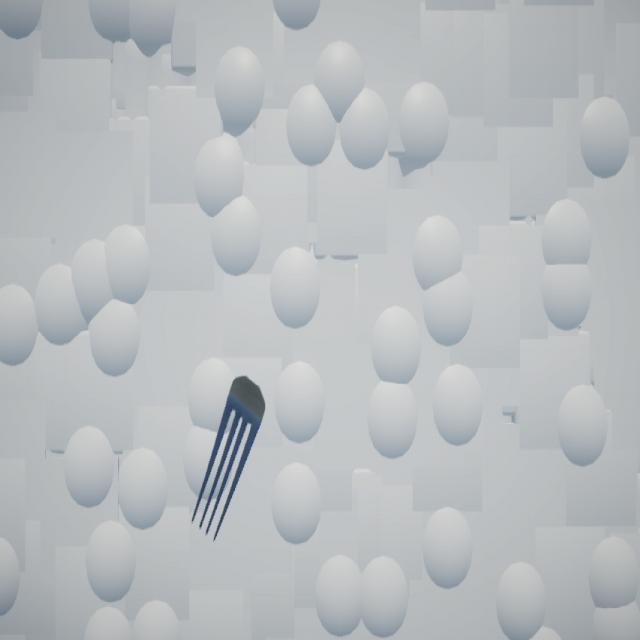top_folk: (192, 376, 267, 543)
